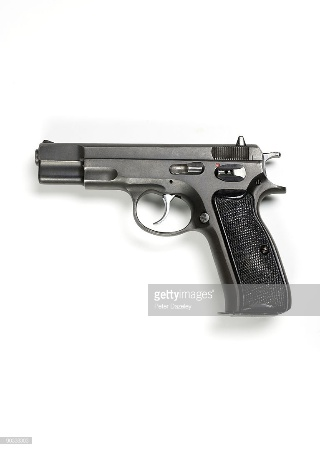handgun: (34, 136, 292, 316)
